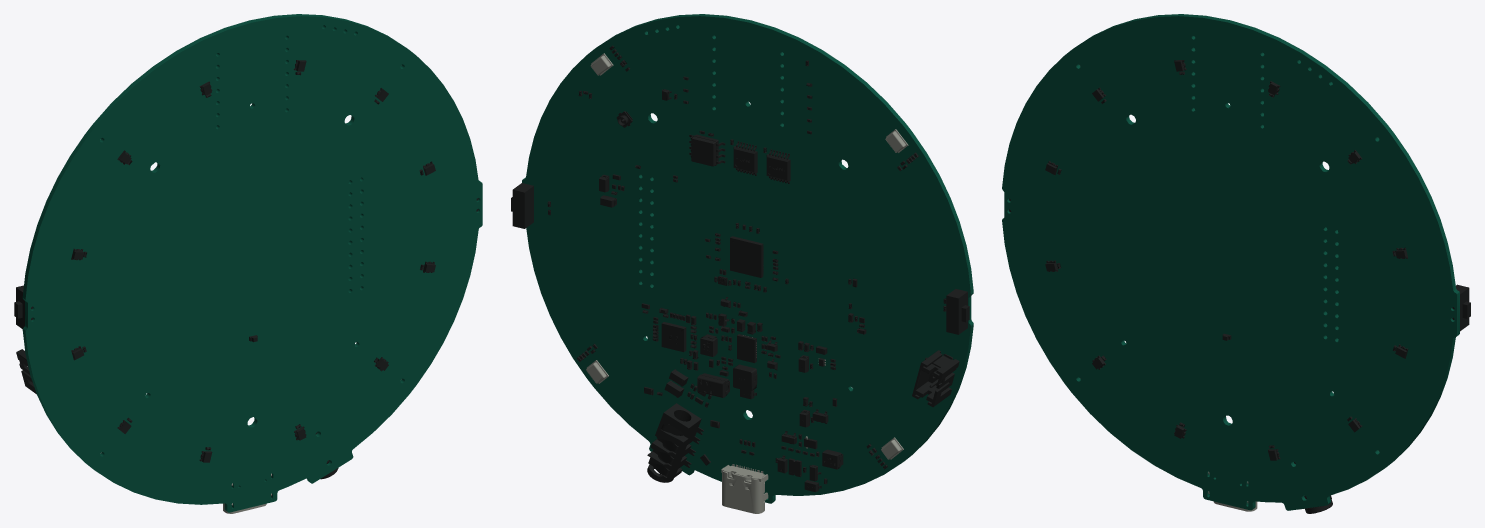
Rendered from respeaker-xvf3800.glb.
3 views of the same model, side by side, from view 1: azimuth 30°, elevation 25°; view 2: azimuth 150°, elevation 25°; view 3: azimuth 330°, elevation 25° (orthographic).
Parts seen in each view (by area): view 1: respeaker; view 2: respeaker; view 3: respeaker.
Boxes of the visible parts, x1,y1,x2,y2 form: respeaker: [14, 14, 482, 513]; respeaker: [511, 14, 973, 513]; respeaker: [1002, 14, 1470, 513].
Bounding box in the file's own units: 102 × 103 × 9.03.
